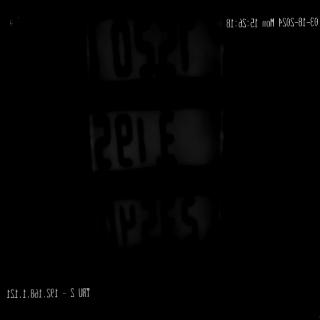screen: (74, 2, 240, 268)
